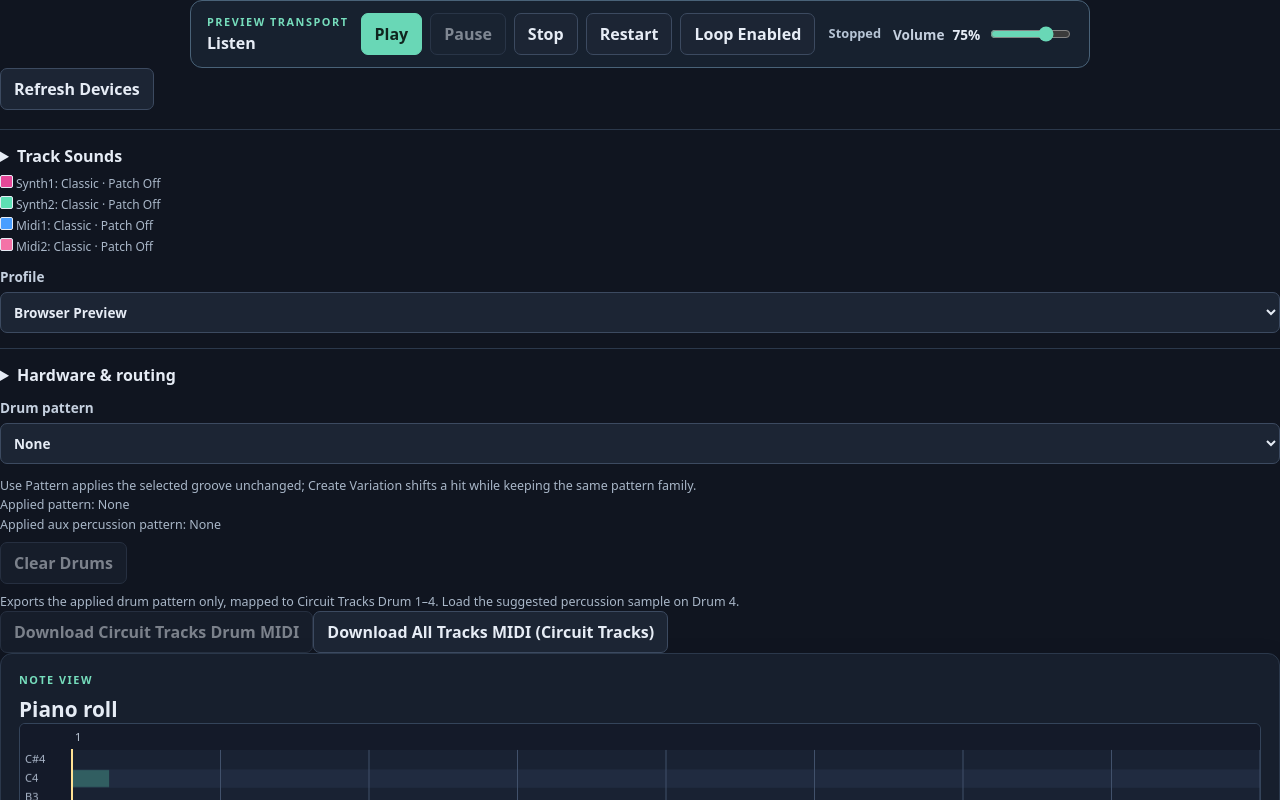
Test case: shows the selected pattern's description and Drum 4 sample guidance
This screenshot has width=1280, height=800.
Select "House - Shaker Groove (1 bar)" in the dropdown labelled "Drum pattern": [640, 444] box [0,423,1279,464]
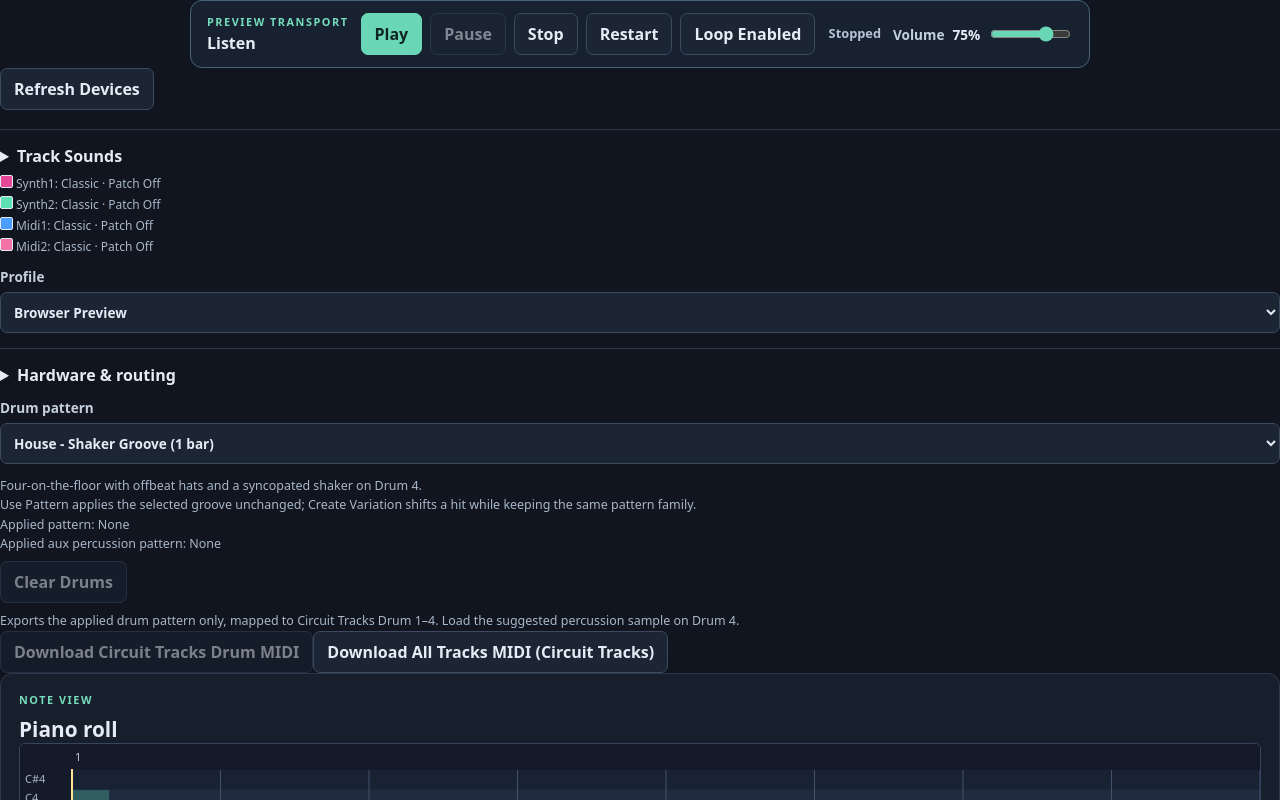
Expected: the text "Load the suggested percussion sample on Drum 4" is shown, [0,612,739,629]
Now the text "syncopated shaker on Drum 4" is shown, box [0,477,422,494]
Select "Techno - Warehouse Cowbell (1 bar)" in the dropdown labelled "Drum pattern": [640, 444] box [0,423,1279,464]
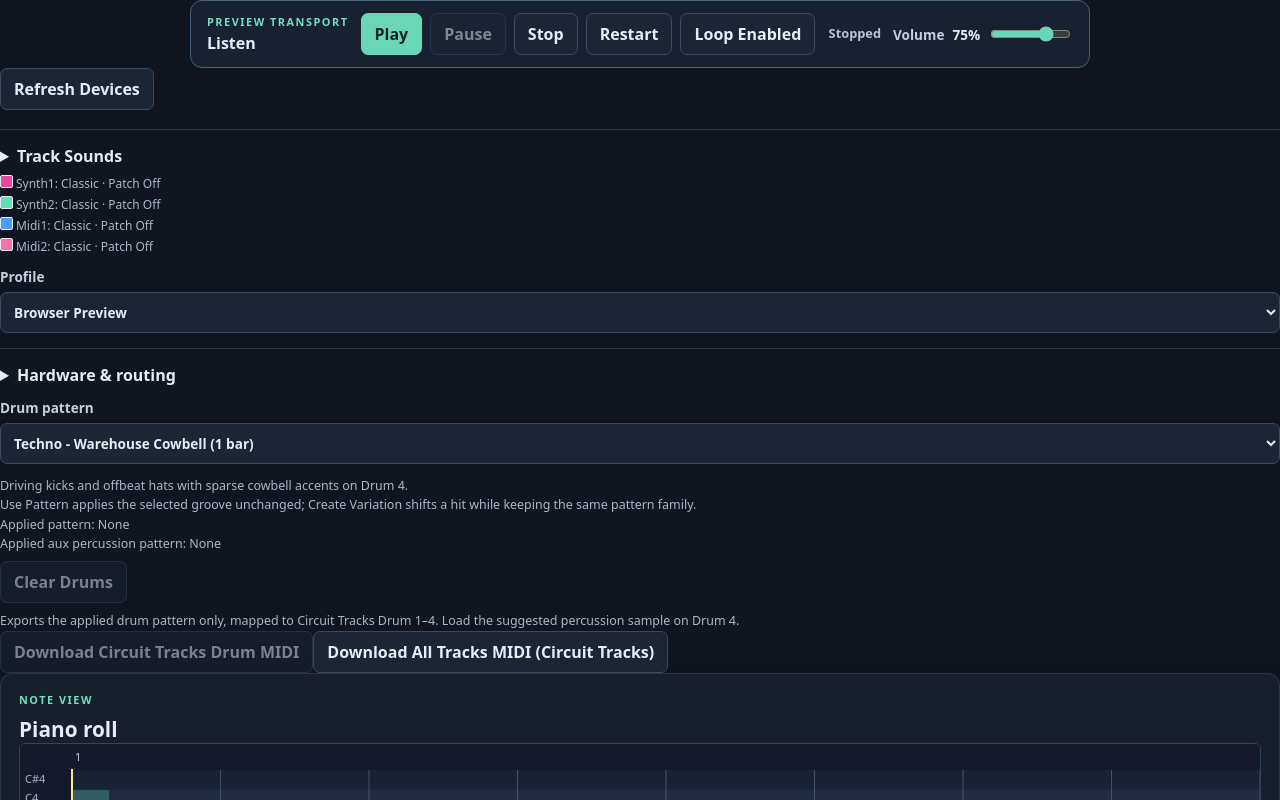
Now the text "sparse cowbell accents on Drum 4" is shown, box [0,477,408,494]
Now the text "syncopated shaker on Drum 4" is gone
Select "None" in the dropdown labelled "Drum pattern": [640, 444] box [0,423,1279,464]
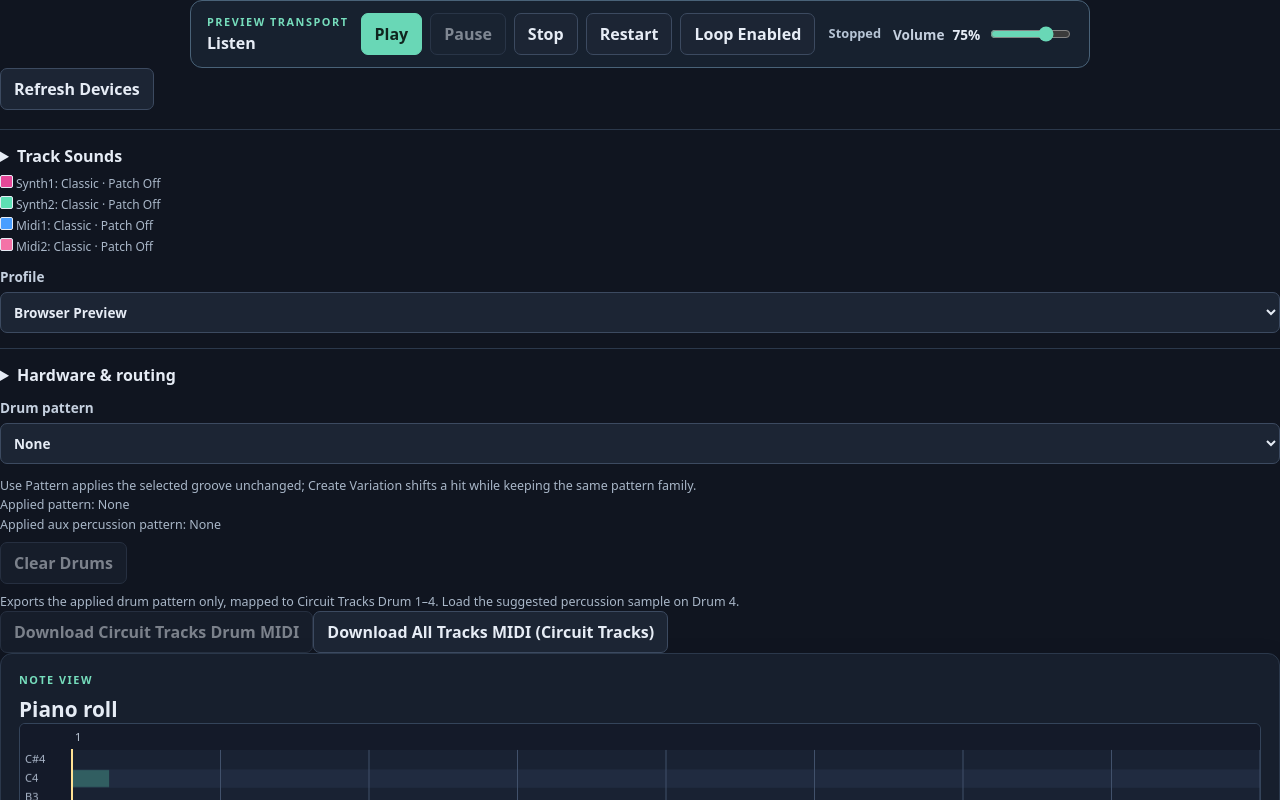
Now the text "sparse cowbell accents on Drum 4" is gone
